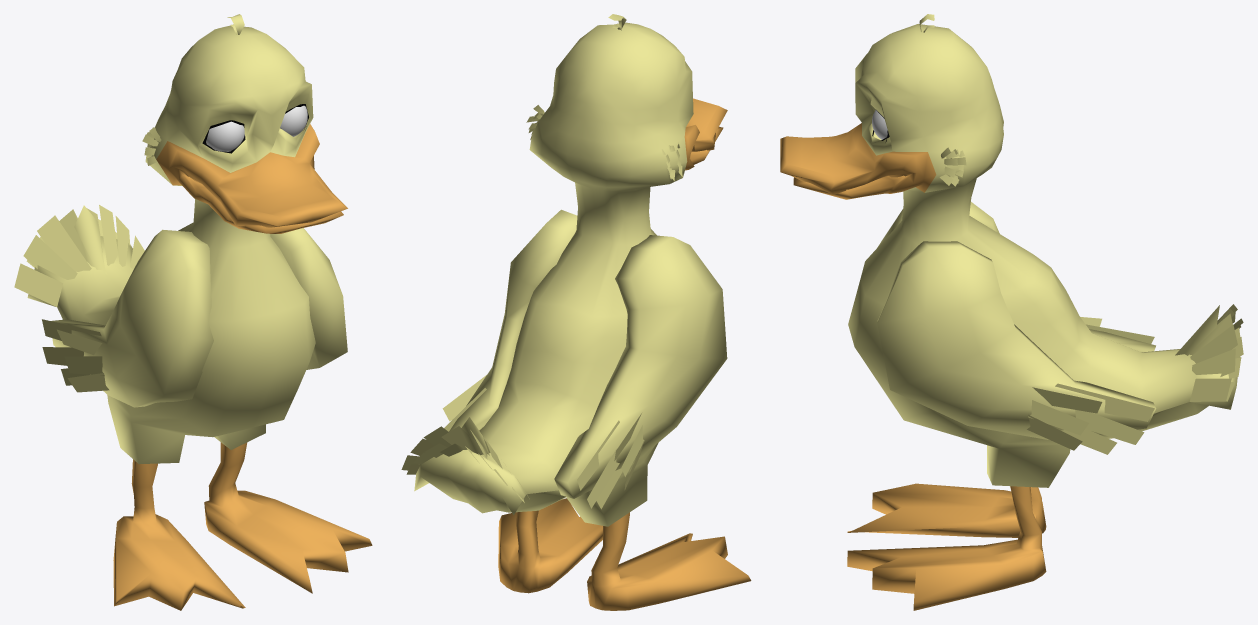
File: duck.glb
The picture shows the model from 3 angles, left to right: view 1: azimuth 30°, elevation 25°; view 2: azimuth 150°, elevation 25°; view 3: azimuth 270°, elevation 25°; orthographic projection. The views are drawn at different scales.
Parts seen in each view (by area): view 1: Cube, Sphere, Sphere.001; view 2: Cube; view 3: Cube.
Boxes of the visible parts, x1=… form: Cube: x1=14, y1=14, x2=372, y2=610; Sphere: x1=206, y1=121, x2=244, y2=151; Sphere.001: x1=280, y1=105, x2=307, y2=136; Cube: x1=401, y1=14, x2=751, y2=610; Cube: x1=780, y1=14, x2=1243, y2=610.
Size of what is drawn, in the model's own units: 1.81 by 3.71 by 2.92.
